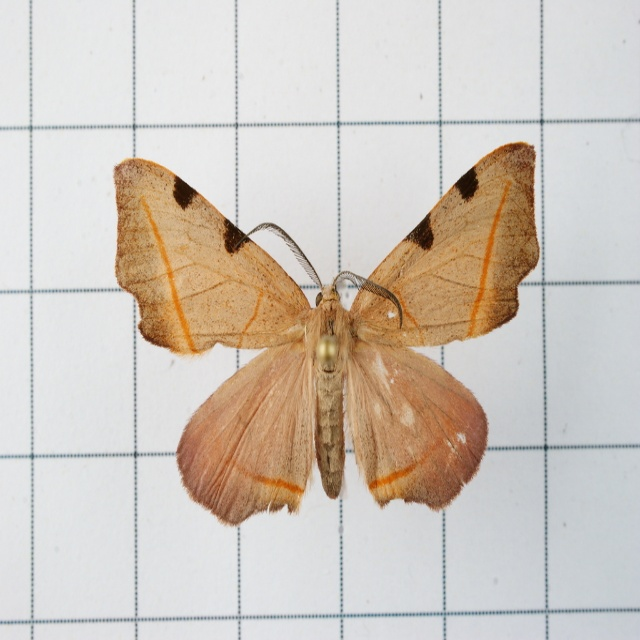Butterfly: (130, 142, 512, 549)
